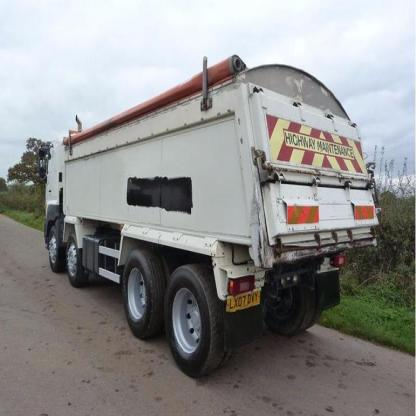dump_truck: (39, 51, 380, 380)
